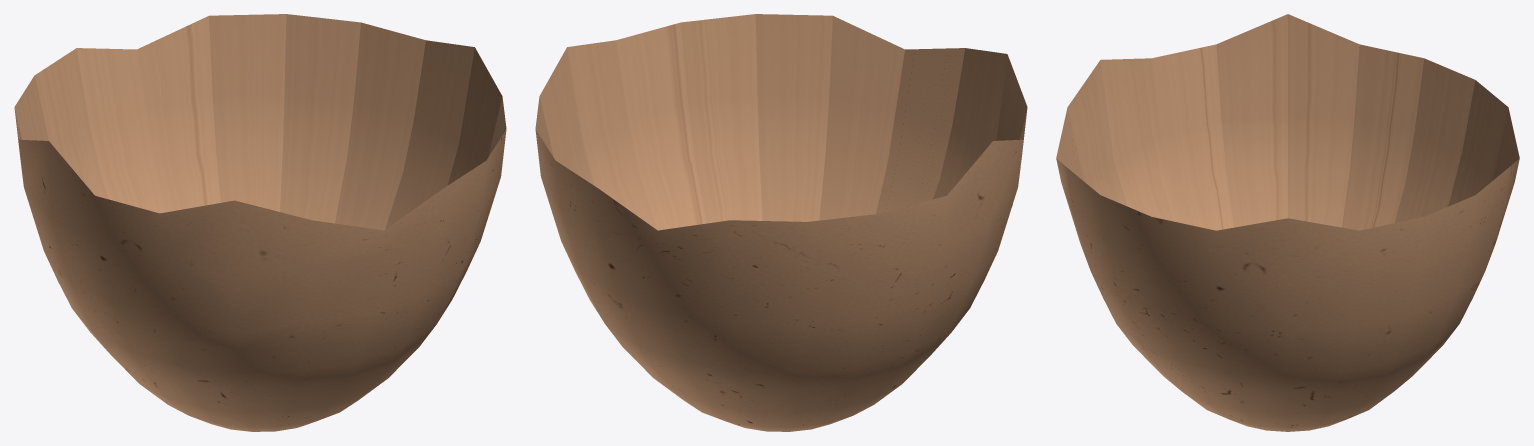
File: EggShell_Bottom.fbx
3 renders of one model, left to right at view 1: azimuth 30°, elevation 25°; view 2: azimuth 150°, elevation 25°; view 3: azimuth 270°, elevation 25°, orthographic. The views are drawn at different scales.
Parts seen in each view (by area): view 1: EggShell_Bottom; view 2: EggShell_Bottom; view 3: EggShell_Bottom.
Boxes of the visible parts, x1,y1,x2,y2 form: EggShell_Bottom: [14, 14, 506, 431]; EggShell_Bottom: [535, 14, 1027, 431]; EggShell_Bottom: [1056, 14, 1519, 431].
Size of the model in its own units: 10.32 by 7.56 by 10.38.
